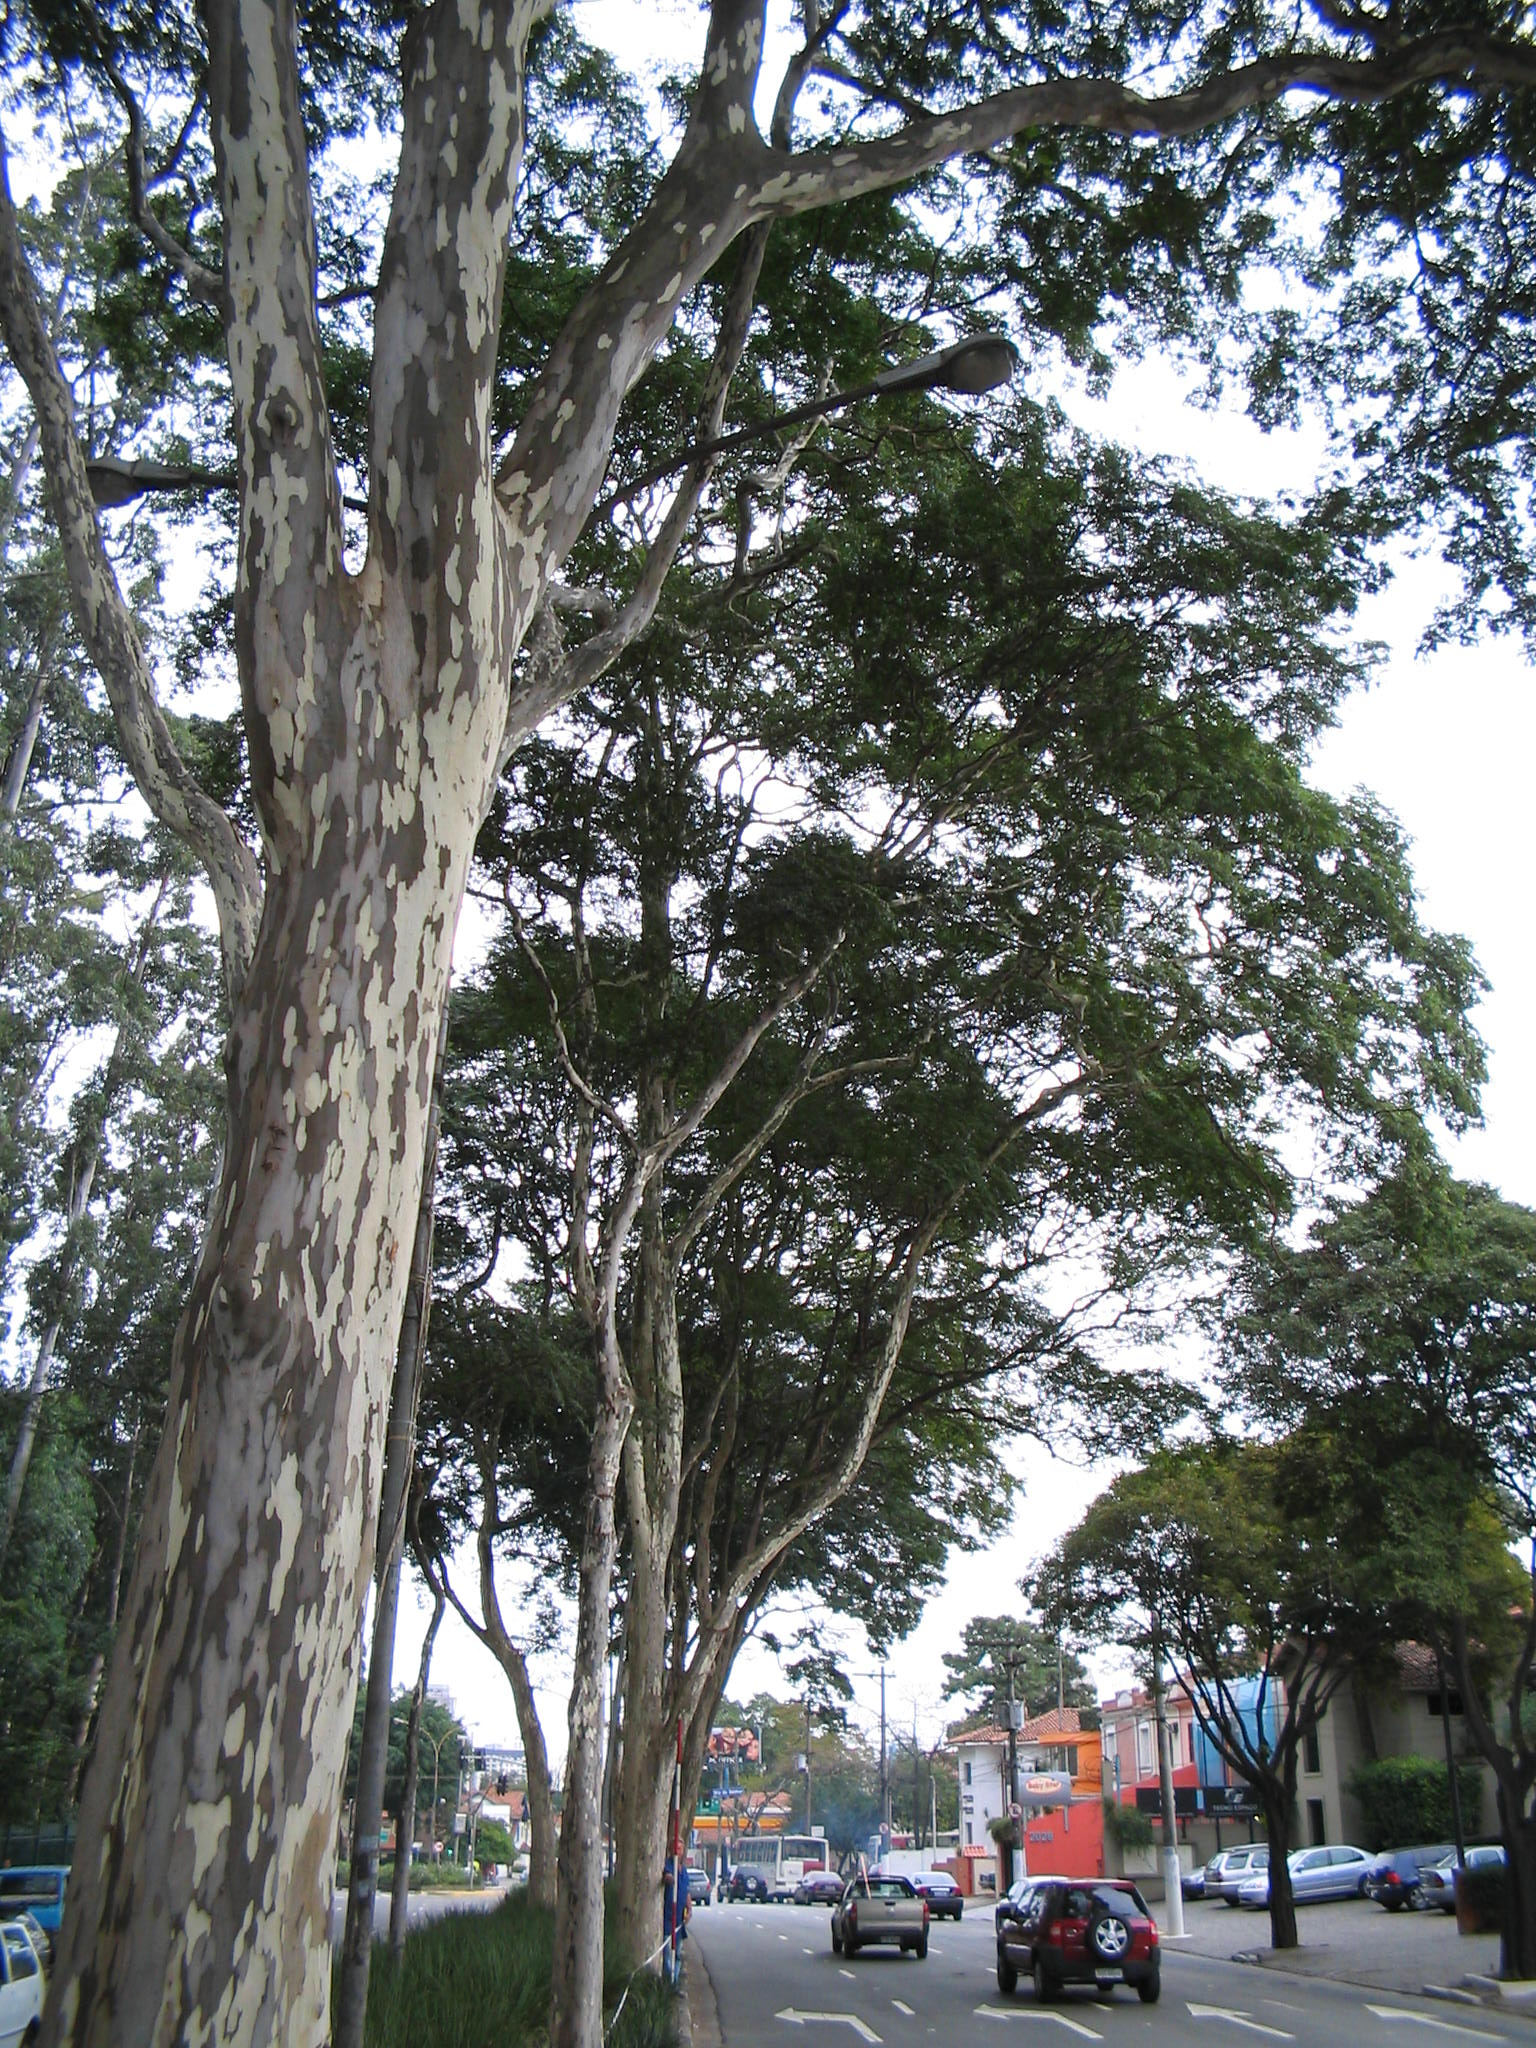crown: (1028, 1437, 1483, 1703)
stem: (1229, 1800, 1325, 1940)
tree: (1020, 1434, 1488, 1945)
